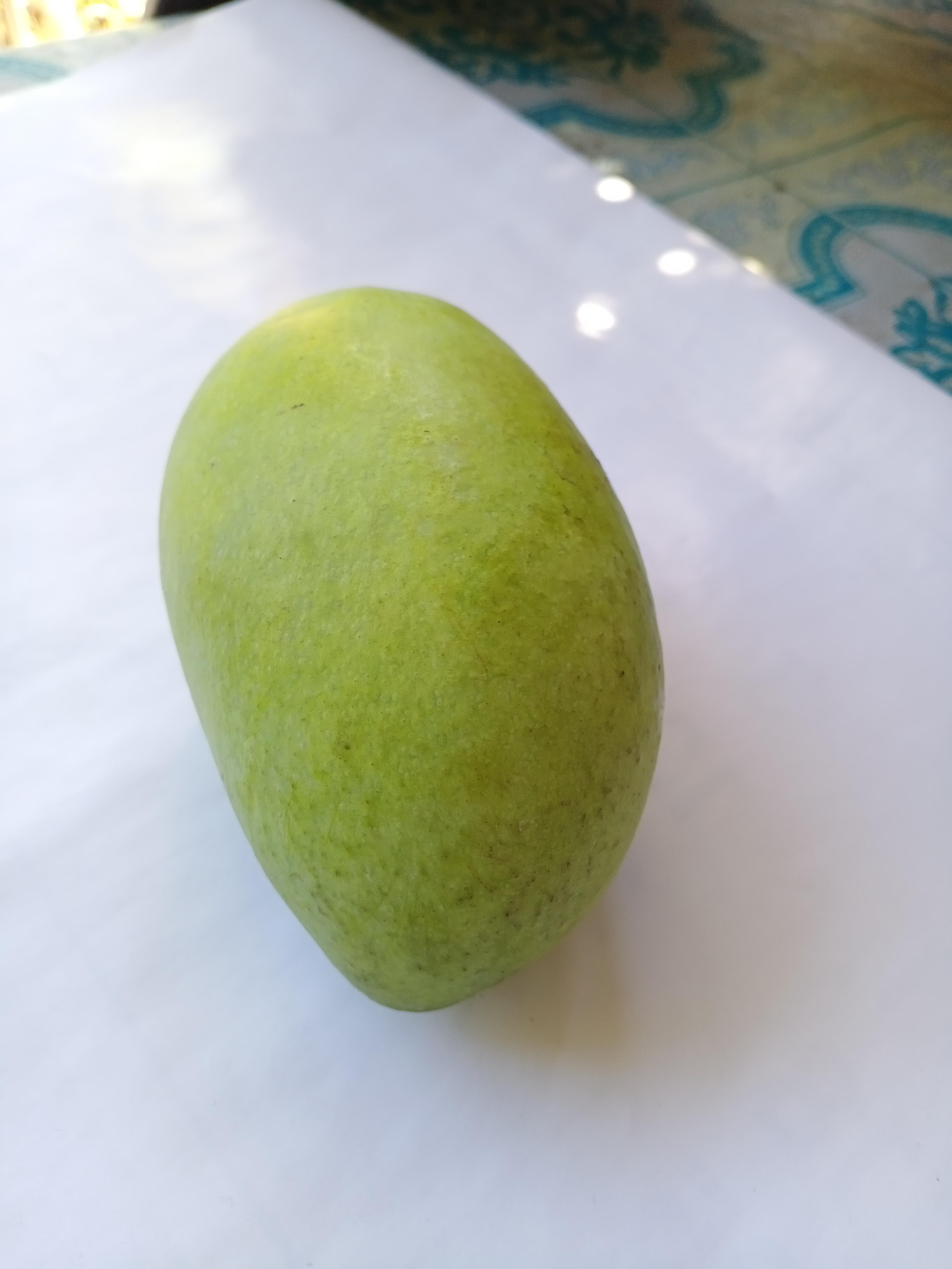Mango Unripe: (133, 234, 681, 1030)
